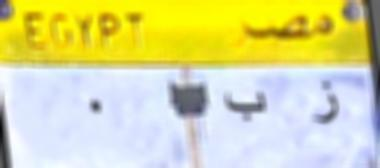0: (87, 90, 106, 120)
baa: (221, 87, 274, 126)
zay: (308, 75, 345, 132)
